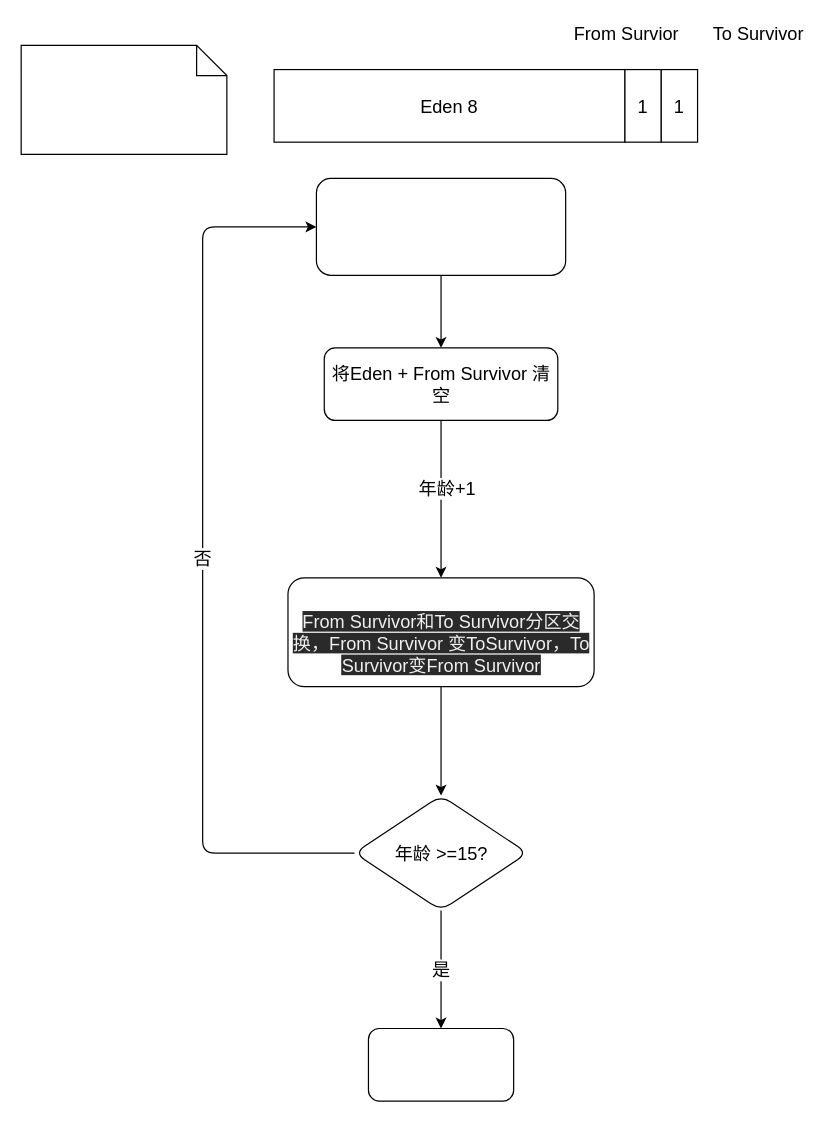
The diagram is 834 pixels wide and 1122 high, and some of its shapes have lost their labels. Here are the shapes that lost their labels. From the top down, the centre of each, then its label:
At (123,99): "新生代复制算法".
At (440,226): "把Eden + From Survivor存活的对象放入To Survivor中".
At (440,1064): "老年代".
